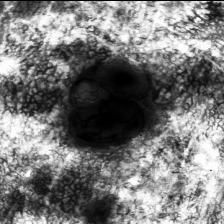Potentially Malignant Skin Tumors: (78, 61, 158, 147)
